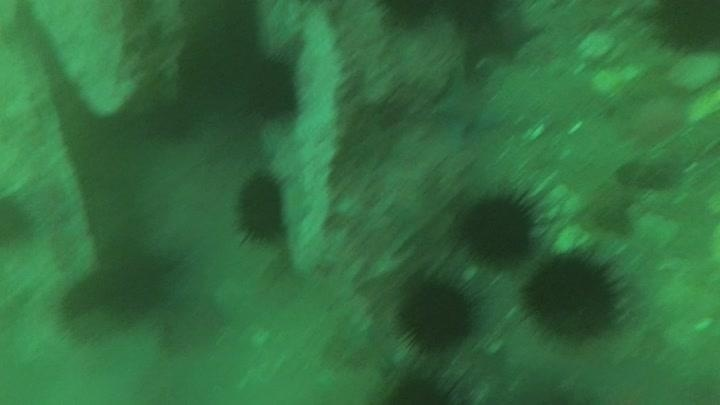echinus: (520, 249, 626, 344), (175, 5, 262, 101), (393, 271, 481, 354), (455, 188, 541, 267), (93, 243, 175, 320), (231, 168, 290, 246), (239, 53, 303, 124), (375, 365, 476, 404), (648, 1, 719, 55), (372, 1, 442, 32), (1, 191, 36, 250)
holothurian: (613, 153, 683, 192)
starfish: (442, 2, 543, 66), (432, 70, 508, 138), (579, 177, 638, 235)
